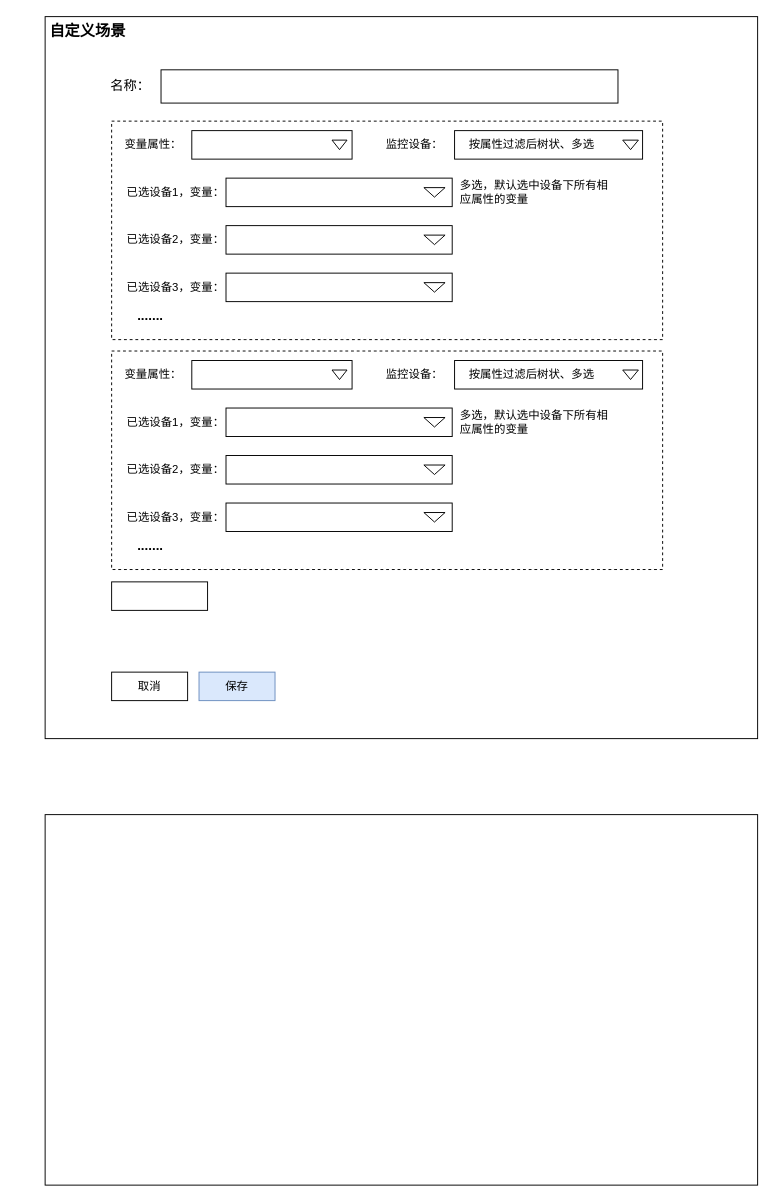
Some shapes in this 774 by 1202 pixel diagram are drawn without their labels. Each missing label, with the centre of its shape:
"手动控制场景" belongs at point 401,999.
"＋添加控制组" belongs at point 159,595.
